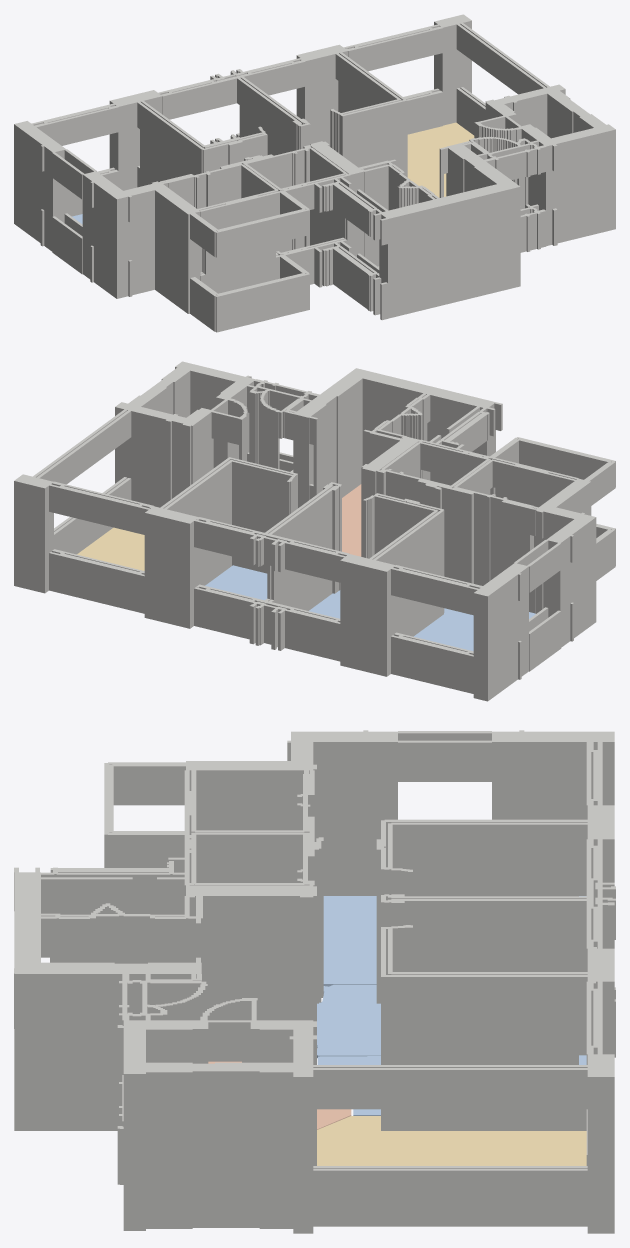
The picture shows the model from 3 angles, top to bottom: view 1: azimuth 30°, elevation 25°; view 2: azimuth 150°, elevation 25°; view 3: azimuth 270°, elevation 25°; orthographic projection. The views are drawn at different scales.
Visible parts, largest first — view 1: walls, room:living:1; view 2: walls, room:living:1, room:bedroom:8, room:bedroom:0, room:kitchen:5, room:bedroom:6; view 3: walls, room:living:1, room:bedroom:8, room:bedroom:6, room:bedroom:0.
Boxes of the visible parts, left/top/right/bottom form: walls: left=14, top=14, right=615, bottom=332; room:living:1: left=407, top=122, right=474, bottom=197; walls: left=14, top=361, right=615, bottom=701; room:living:1: left=77, top=527, right=144, bottom=570; room:bedroom:8: left=414, top=608, right=535, bottom=651; room:bedroom:0: left=205, top=565, right=267, bottom=600; room:kitchen:5: left=342, top=484, right=361, bottom=556; room:bedroom:6: left=309, top=590, right=340, bottom=618; walls: left=14, top=730, right=615, bottom=1233; room:living:1: left=317, top=1116, right=586, bottom=1165; room:bedroom:8: left=323, top=896, right=586, bottom=986; room:bedroom:6: left=317, top=984, right=380, bottom=1057; room:bedroom:0: left=317, top=1055, right=586, bottom=1115.
Bounding box in the file's own units: 13.27 × 2.8 × 9.74.
